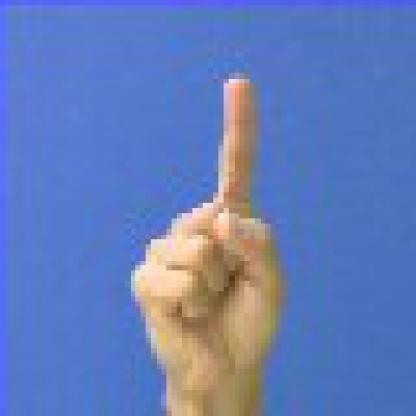one: (120, 62, 302, 411)
